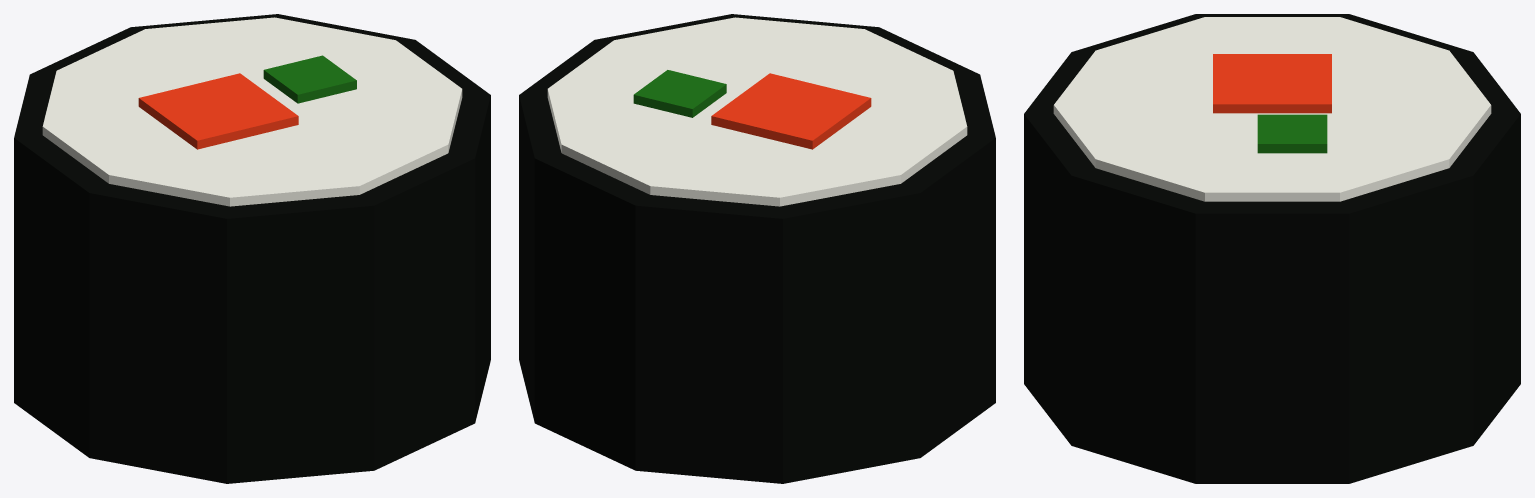
File: sushi_maki.obj
The picture shows the model from 3 angles, left to right: view 1: azimuth 30°, elevation 25°; view 2: azimuth 150°, elevation 25°; view 3: azimuth 270°, elevation 25°; orthographic projection.
Parts seen in each view (by area): view 1: sushi_maki; view 2: sushi_maki; view 3: sushi_maki.
Part boxes in pixels (bbox=[...]): sushi_maki: bbox=[14, 14, 490, 483]; sushi_maki: bbox=[519, 14, 995, 483]; sushi_maki: bbox=[1024, 14, 1520, 483].
Bounding box in the file's own units: 0.0476 × 0.034 × 0.05.
